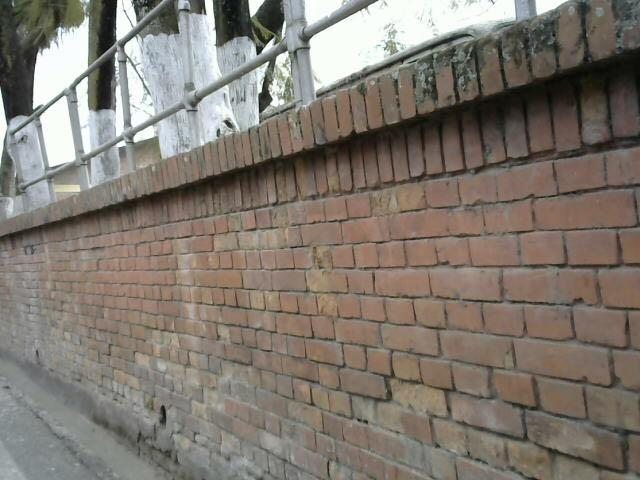Building: (0, 50, 640, 480)
Tree: (126, 0, 264, 152), (71, 1, 140, 181), (2, 2, 59, 190)
